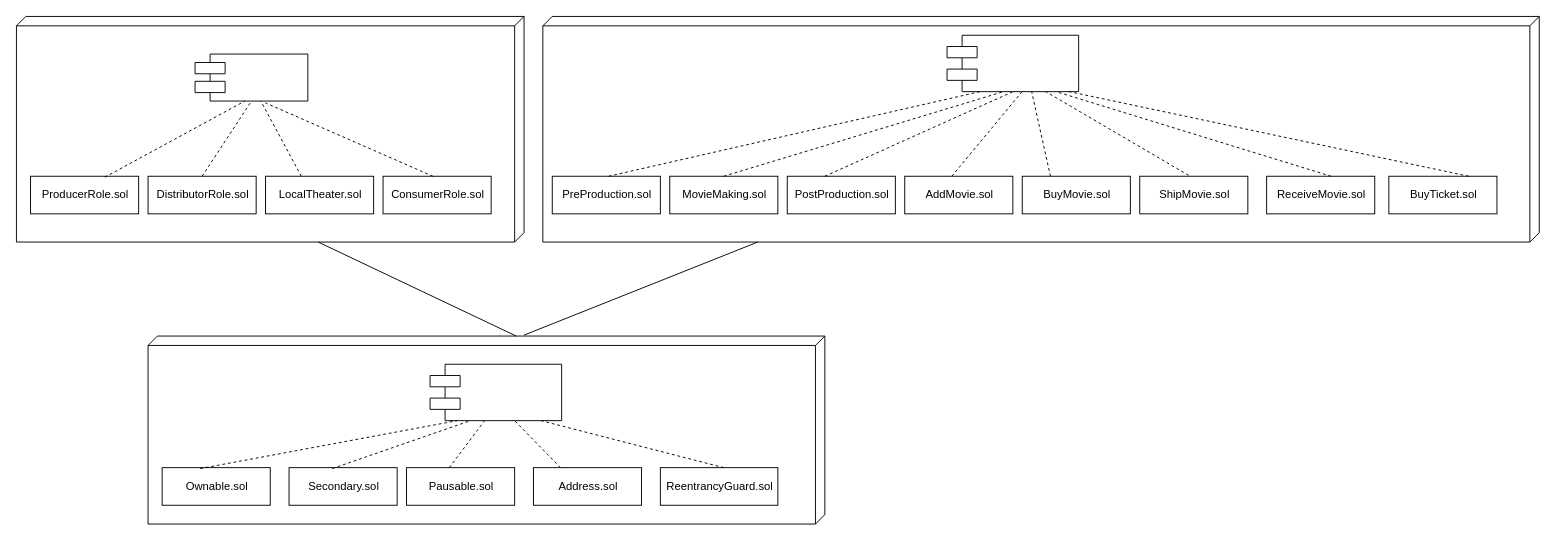
This 1556x541 diagram has some shape labels left out. Here are the shapes that lost their labels. From the top down, the box of each, then its label:
(194, 53, 308, 101): Roles.sol
(946, 34, 1079, 92): SupplyChain.sol
(16, 16, 524, 242): MovieAccessControl
(542, 16, 1539, 242): MovieBase
(429, 363, 562, 421): ValueChain.sol
(147, 335, 825, 524): MovieCore
